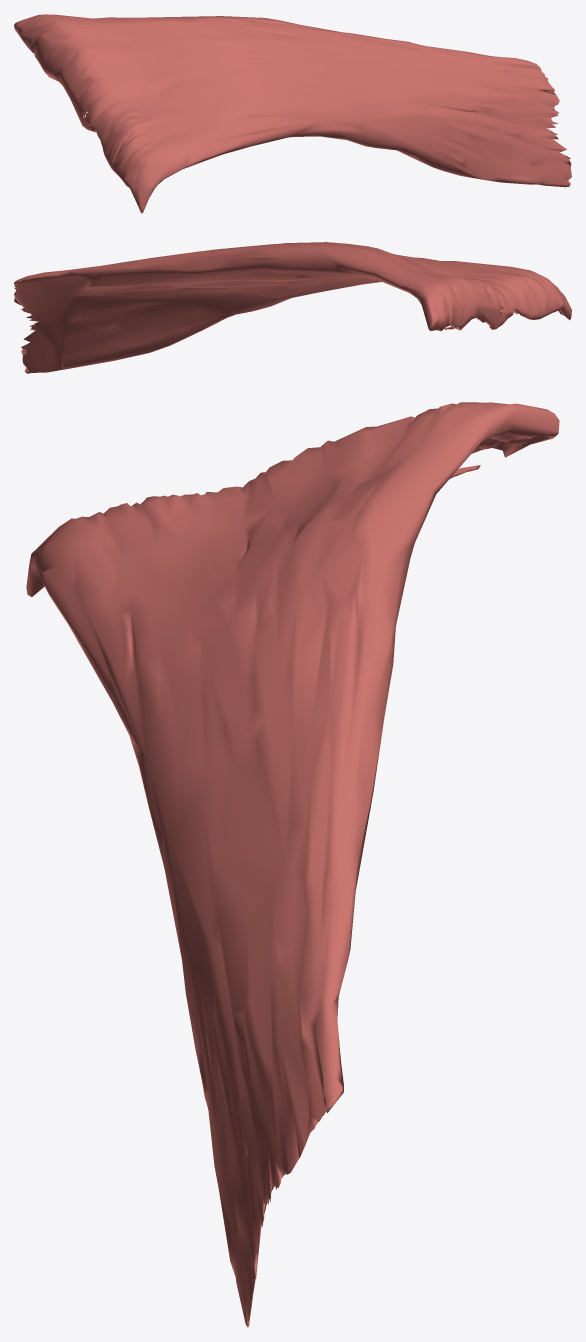
The picture shows the model from 3 angles, top to bottom: view 1: azimuth 30°, elevation 25°; view 2: azimuth 150°, elevation 25°; view 3: azimuth 270°, elevation 25°; orthographic projection. The views are drawn at different scales.
Visible parts, largest first — view 1: 左侧斜方肌横部; view 2: 左侧斜方肌横部; view 3: 左侧斜方肌横部.
Part boxes in pixels (x1,y1,x2,y2): 左侧斜方肌横部: (14, 14, 571, 213); 左侧斜方肌横部: (14, 242, 571, 373); 左侧斜方肌横部: (26, 402, 559, 1327).
Bounding box in the file's own units: 0.2538 × 0.118 × 0.1196.
